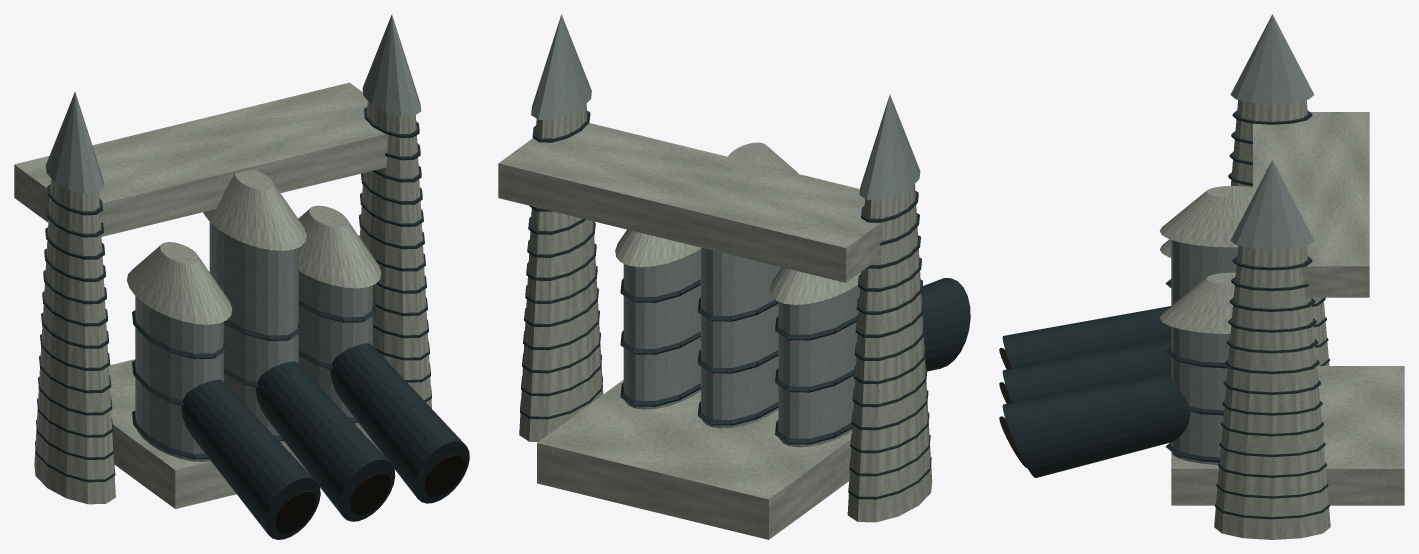
Rendered from pump_cathedral_01.fbx.
3 renders of one model, left to right at view 1: azimuth 30°, elevation 25°; view 2: azimuth 150°, elevation 25°; view 3: azimuth 270°, elevation 25°, orthographic. The views are drawn at different scales.
Parts seen in each view (by area): view 1: pump_cathedral_01_LOD0; view 2: pump_cathedral_01_LOD0; view 3: pump_cathedral_01_LOD0.
Part boxes in pixels (x1,y1,x2,y2): pump_cathedral_01_LOD0: [14, 14, 469, 539]; pump_cathedral_01_LOD0: [498, 14, 970, 539]; pump_cathedral_01_LOD0: [999, 14, 1404, 539].
Size of what is drawn, in the model's own units: 1 by 1 by 1.
